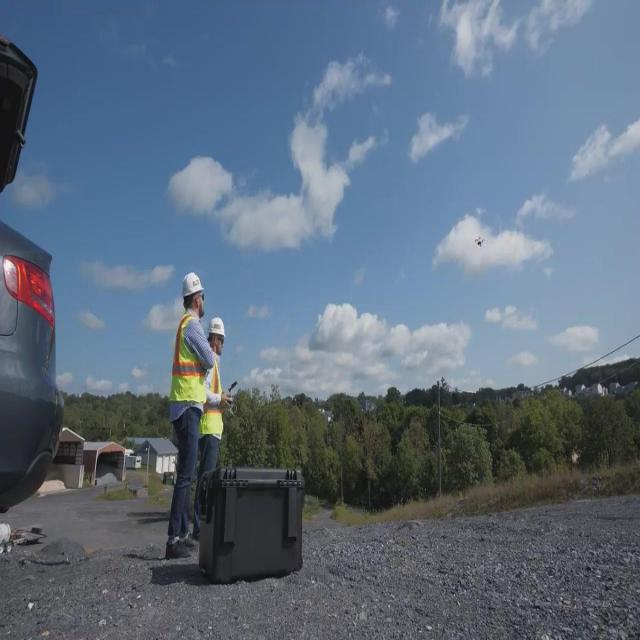Reflective-Jacket: (159, 308, 211, 424), (192, 354, 232, 450)
Safety-Helmet: (177, 264, 210, 311), (204, 308, 232, 352)
